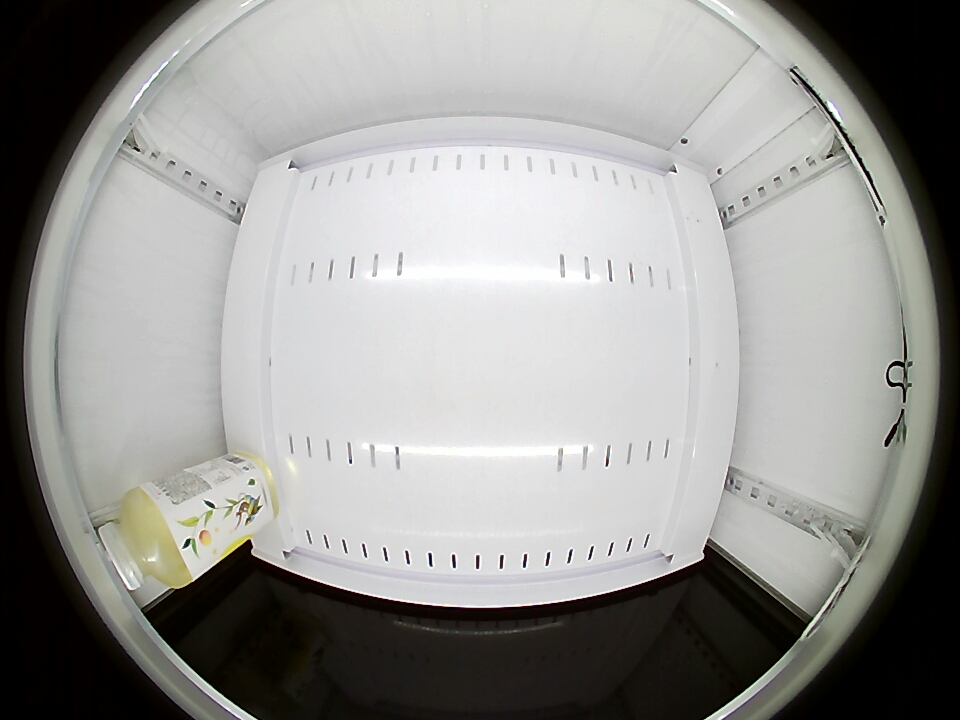chapai2: (99, 485, 193, 590)
